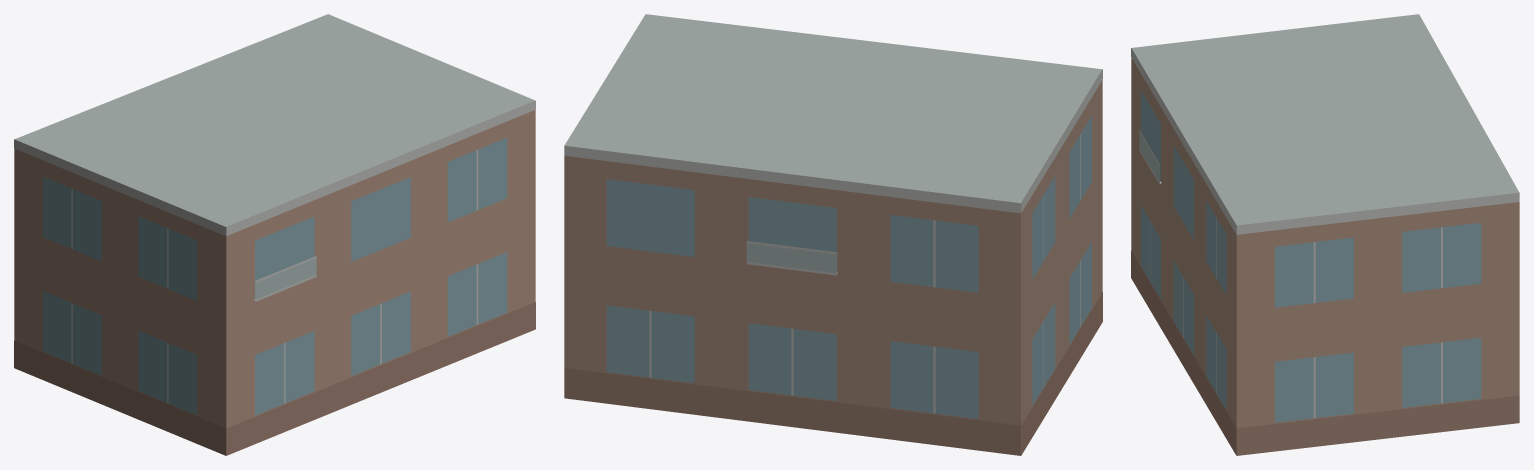
The model's file is survey-upis-32904874.glb.
3 renders of one model, left to right at view 1: azimuth 30°, elevation 25°; view 2: azimuth 150°, elevation 25°; view 3: azimuth 270°, elevation 25°, orthographic. The views are drawn at different scales.
Parts seen in each view (by area): view 1: survey-upis-32904874.tmp; view 2: survey-upis-32904874.tmp; view 3: survey-upis-32904874.tmp.
Boxes of the visible parts, <box> form: survey-upis-32904874.tmp: <box>14,14,535,455</box>; survey-upis-32904874.tmp: <box>564,14,1102,455</box>; survey-upis-32904874.tmp: <box>1131,14,1519,455</box>.
Size of the model in its own units: 12.03 by 6.1 by 9.33.
